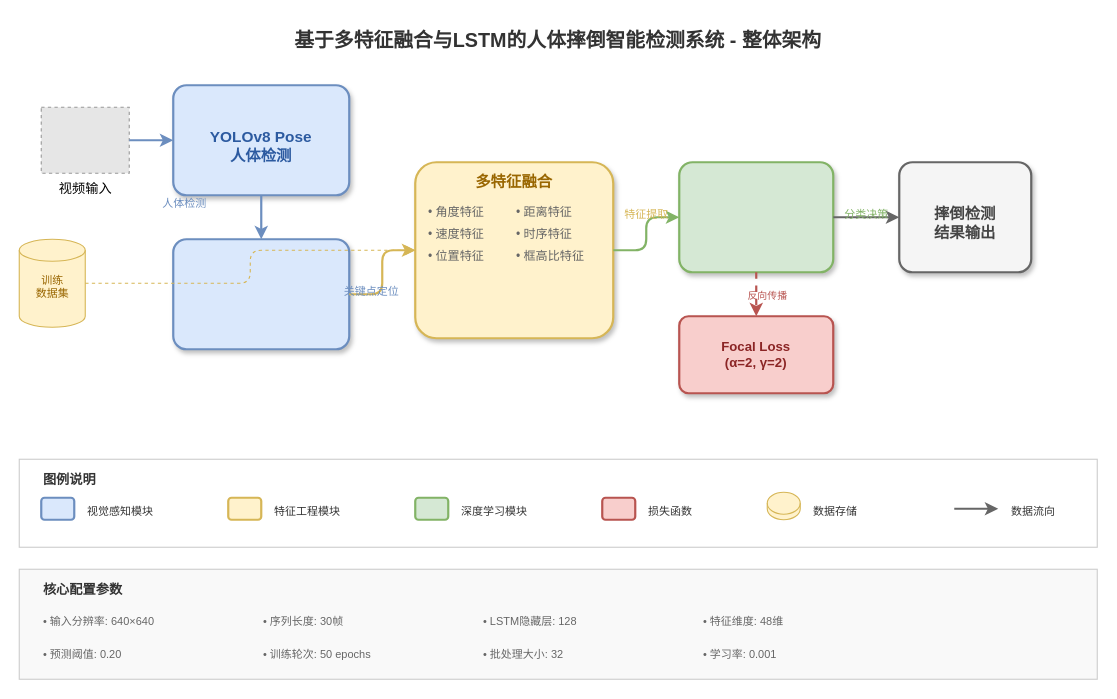
Image size: 1117x699. Some labels were removed from this diagram. Grey dashed boxes stand in for pictures. Here are the shapes that lost their labels. From the top down, the centre of each, then its label:
At (x=756, y=218): "LSTM 时序分类器".
At (x=261, y=295): "COCO关键点 提取 (17点)".
